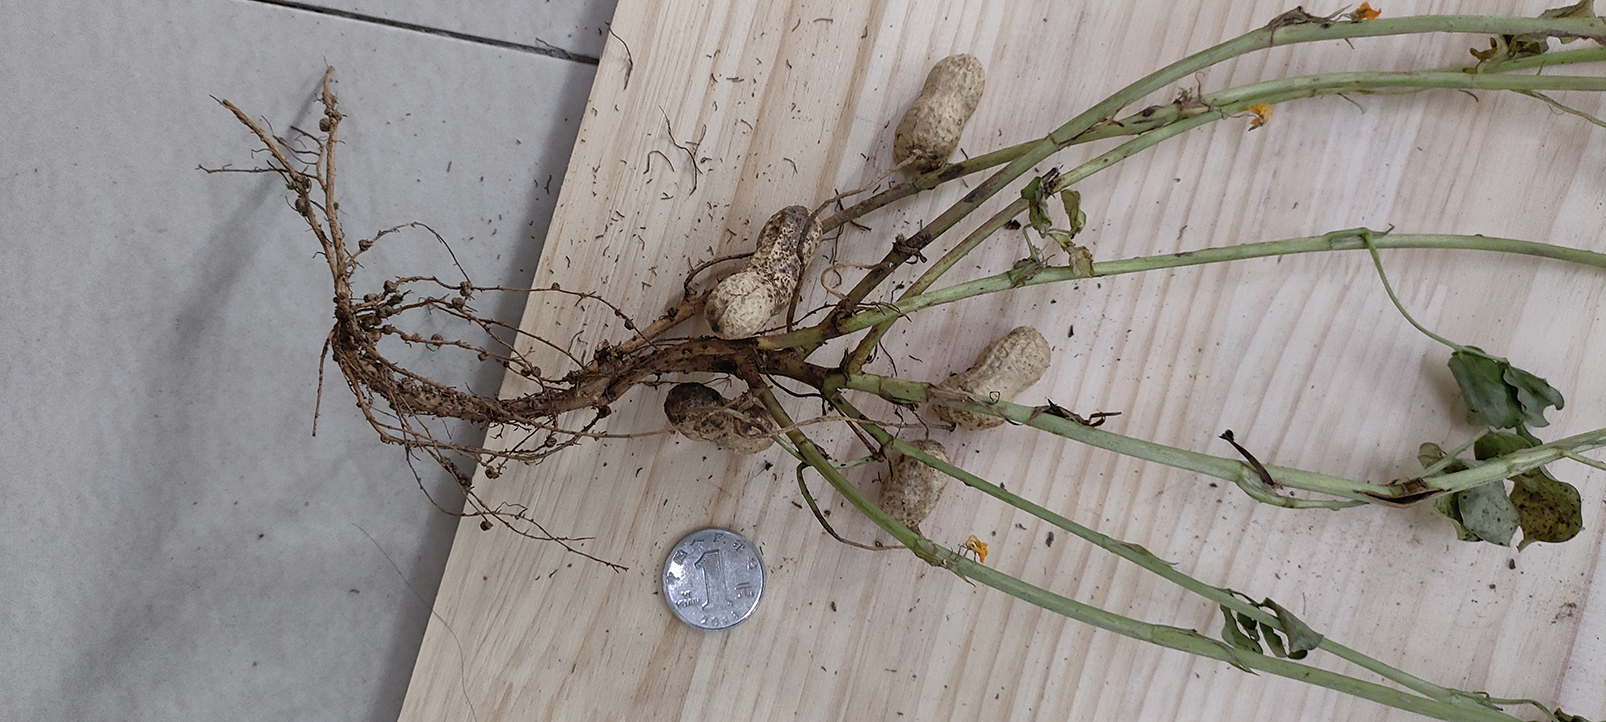h: (706, 204, 825, 339), (933, 328, 1051, 430), (895, 54, 986, 174)
l: (661, 383, 777, 454), (879, 440, 950, 527)
